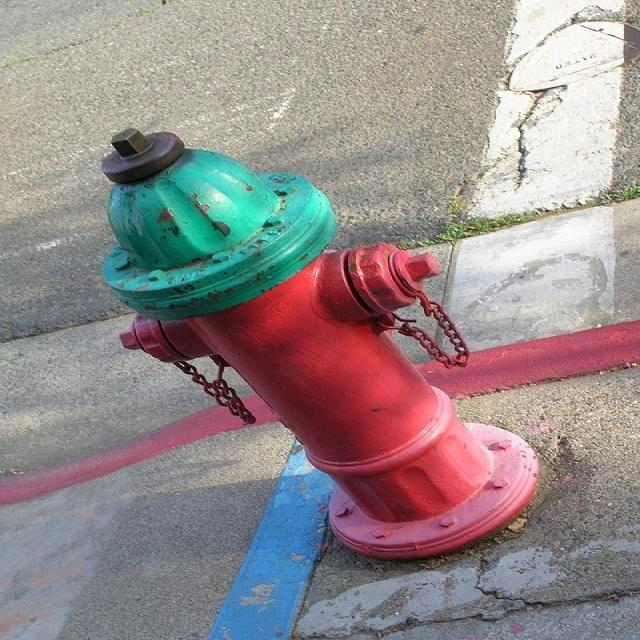fire_hydrant: (65, 107, 571, 593)
